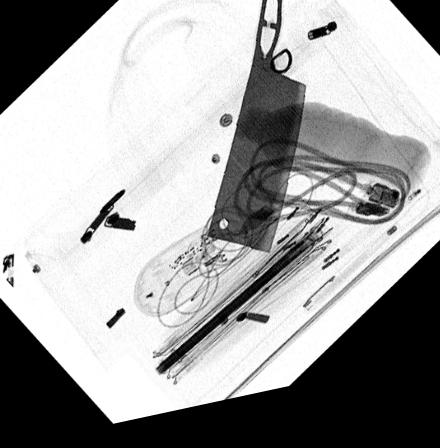Knife: (206, 0, 305, 266)
